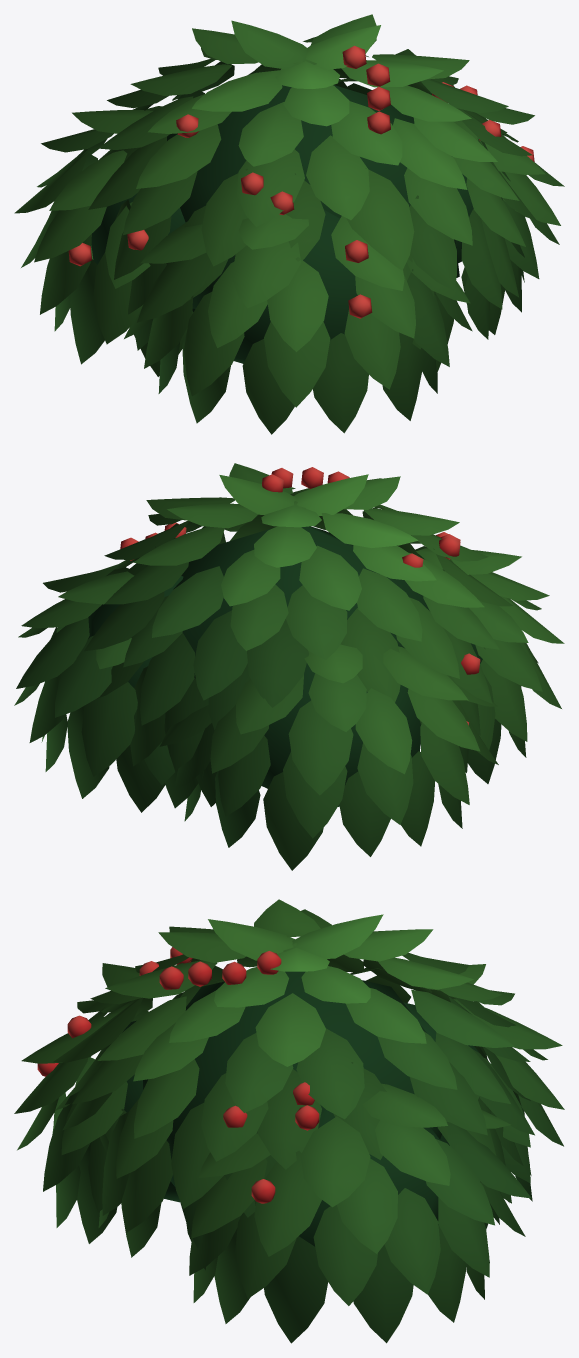
Rendered from bush_holly_lod1.glb.
The picture shows the model from 3 angles, top to bottom: view 1: azimuth 30°, elevation 25°; view 2: azimuth 150°, elevation 25°; view 3: azimuth 270°, elevation 25°; orthographic projection. The views are drawn at different scales.
Parts seen in each view (by area): view 1: bush_holly.001; view 2: bush_holly.001; view 3: bush_holly.001.
Boxes of the visible parts, x1,y1,x2,y2 form: bush_holly.001: (14, 14, 564, 434); bush_holly.001: (14, 463, 564, 870); bush_holly.001: (14, 899, 564, 1343).
Size of the model in its own units: 1.46 by 0.8595 by 1.37.
